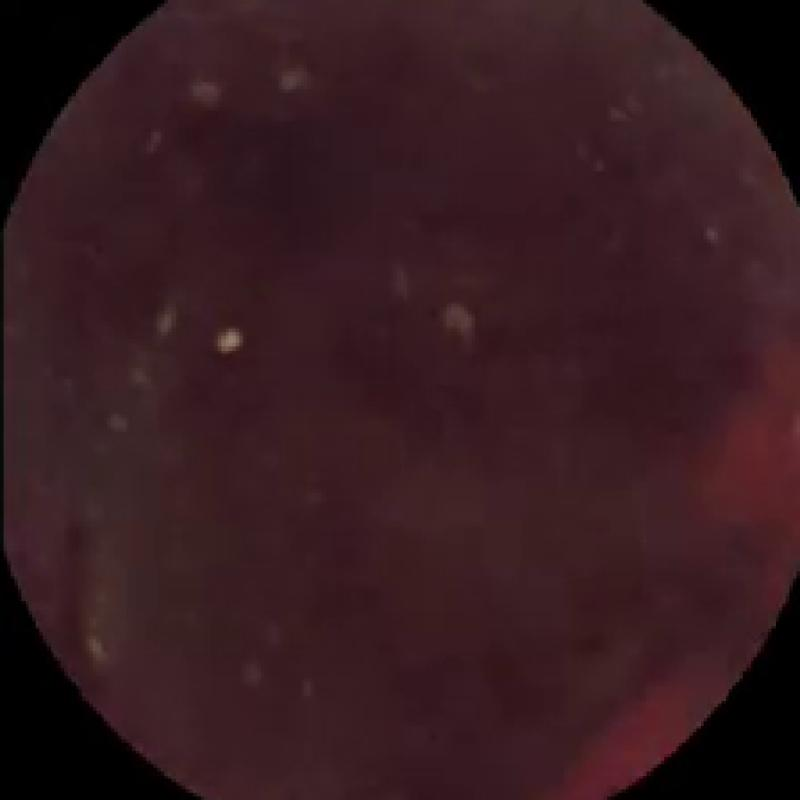bleeding: (564, 339, 800, 793)
